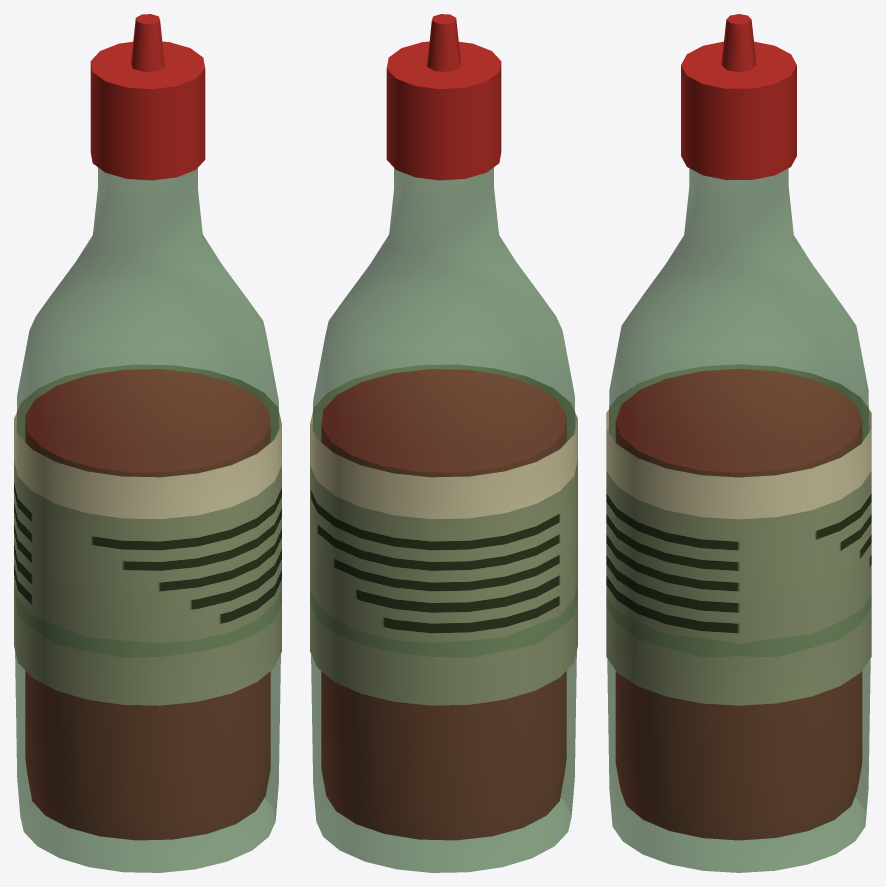
File: bottle_hot_sauce_bottle.glb
The picture shows the model from 3 angles, left to right: view 1: azimuth 30°, elevation 25°; view 2: azimuth 150°, elevation 25°; view 3: azimuth 270°, elevation 25°; orthographic projection.
Parts seen in each view (by area): view 1: bottle_hot_sauce_bottle; view 2: bottle_hot_sauce_bottle; view 3: bottle_hot_sauce_bottle.
Boxes of the visible parts, x1=… form: bottle_hot_sauce_bottle: x1=14, y1=14, x2=281, y2=872; bottle_hot_sauce_bottle: x1=310, y1=14, x2=577, y2=872; bottle_hot_sauce_bottle: x1=606, y1=14, x2=871, y2=872.
Bounding box in the file's own units: 0.0532 × 0.1752 × 0.0527.
4 materials, 1 textured.
